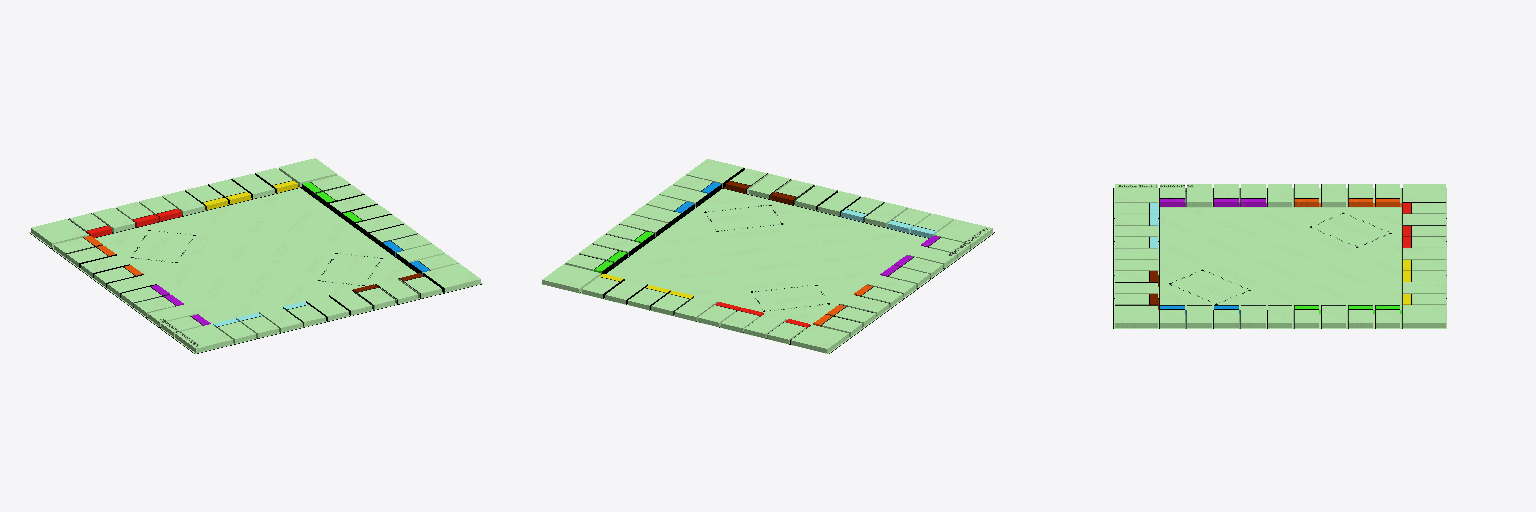
3 renders of one model, left to right at view 1: azimuth 30°, elevation 25°; view 2: azimuth 150°, elevation 25°; view 3: azimuth 270°, elevation 25°, orthographic.
Visible parts, largest first — view 1: Cube; view 2: Cube; view 3: Cube.
Part boxes in pixels (x1,y1,x2,y2): Cube: (29, 158, 482, 353); Cube: (541, 159, 994, 353); Cube: (1113, 184, 1446, 328).
Bounding box in the file's own units: 200 × 3.05 × 200.
1 materials, 1 textured.